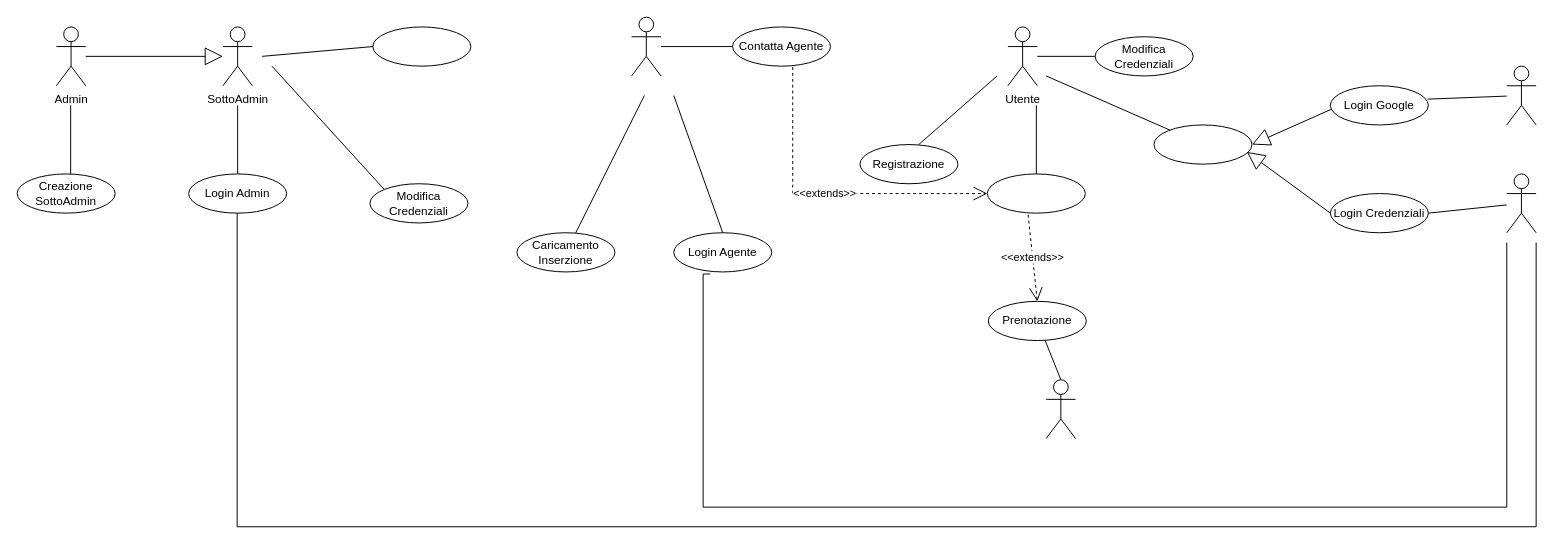
This 1557x545 diagram has some shape labels left out. The centre of each missing label's shape, as x and y in pixels:
"Agente Immobiliare" goes at point 646,46.
"AWS" goes at point 1521,203.
"Creazione Agente" goes at point 421,46.
"Google" goes at point 1521,95.
"Login Utente" goes at point 1202,144.
"OpenMeteo" goes at point 1060,409.
"Ricerca" goes at point 1035,193.
